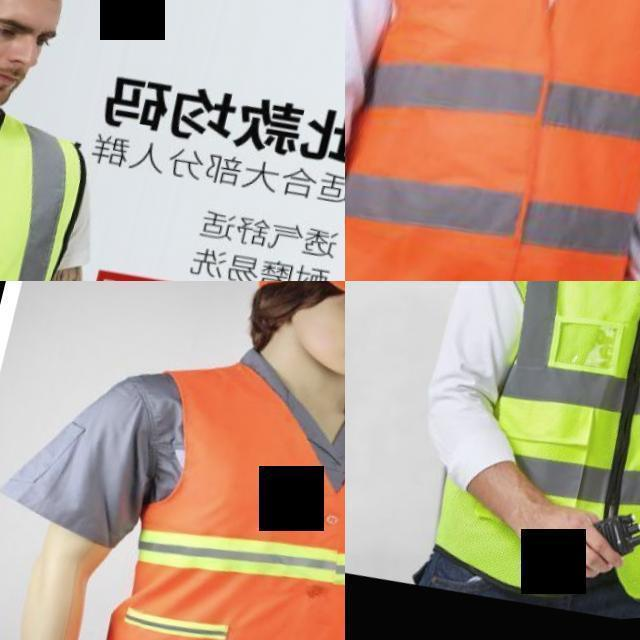vest: (345, 0, 640, 281), (82, 347, 345, 640), (432, 281, 640, 621), (0, 62, 91, 281)
